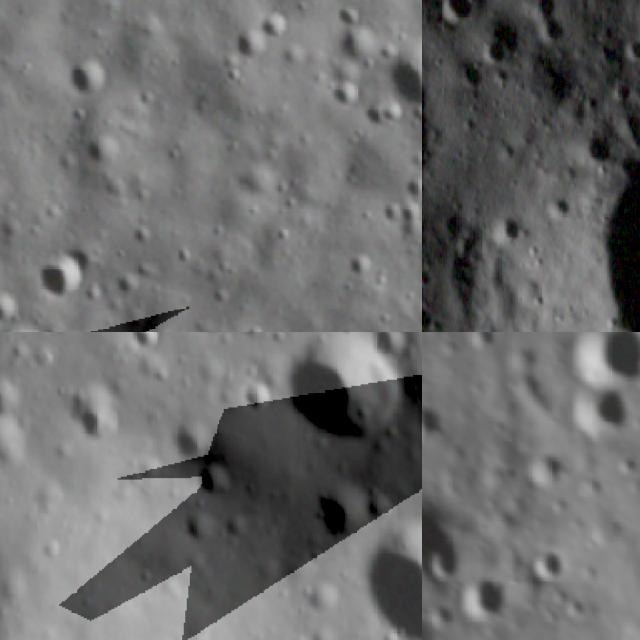crater: (567, 105, 640, 332), (284, 332, 416, 441), (365, 516, 422, 640), (561, 377, 635, 435), (381, 31, 422, 127), (566, 332, 640, 385), (28, 253, 92, 308), (448, 566, 514, 619), (56, 51, 116, 105), (335, 16, 388, 72), (356, 90, 402, 152), (516, 443, 571, 494), (422, 528, 470, 582), (74, 384, 118, 442), (526, 534, 570, 588), (78, 130, 130, 175), (228, 20, 274, 67), (313, 490, 364, 532), (344, 241, 381, 295), (259, 7, 300, 49), (578, 124, 615, 166), (449, 54, 485, 94), (433, 0, 480, 30), (486, 212, 524, 248), (195, 463, 232, 496), (475, 34, 507, 68), (532, 18, 567, 49), (129, 332, 164, 362), (0, 287, 24, 330), (329, 0, 362, 31), (518, 0, 560, 22), (617, 34, 640, 71), (243, 379, 267, 413), (0, 378, 20, 414), (462, 332, 496, 349)
